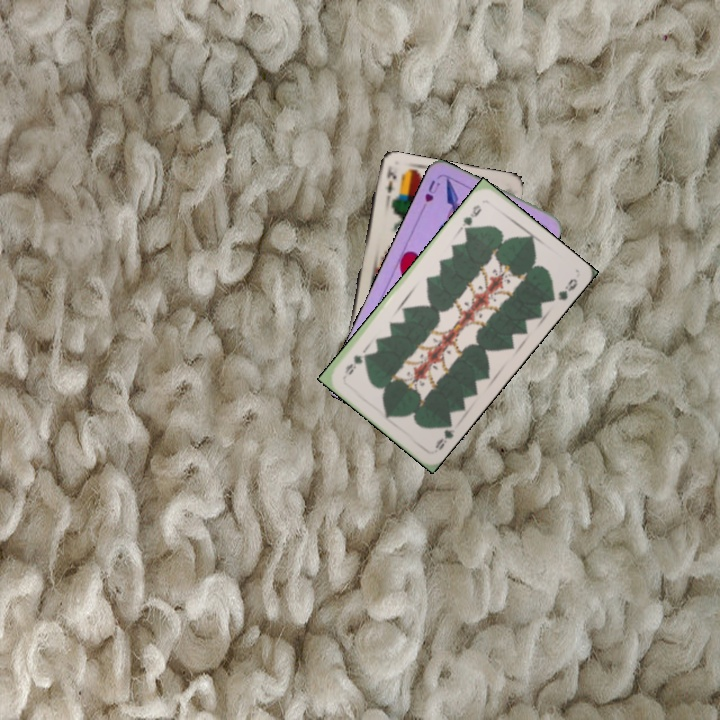EK: (382, 165, 399, 196)
G9: (431, 415, 457, 453), (456, 201, 484, 234)
HU: (420, 176, 442, 205)
